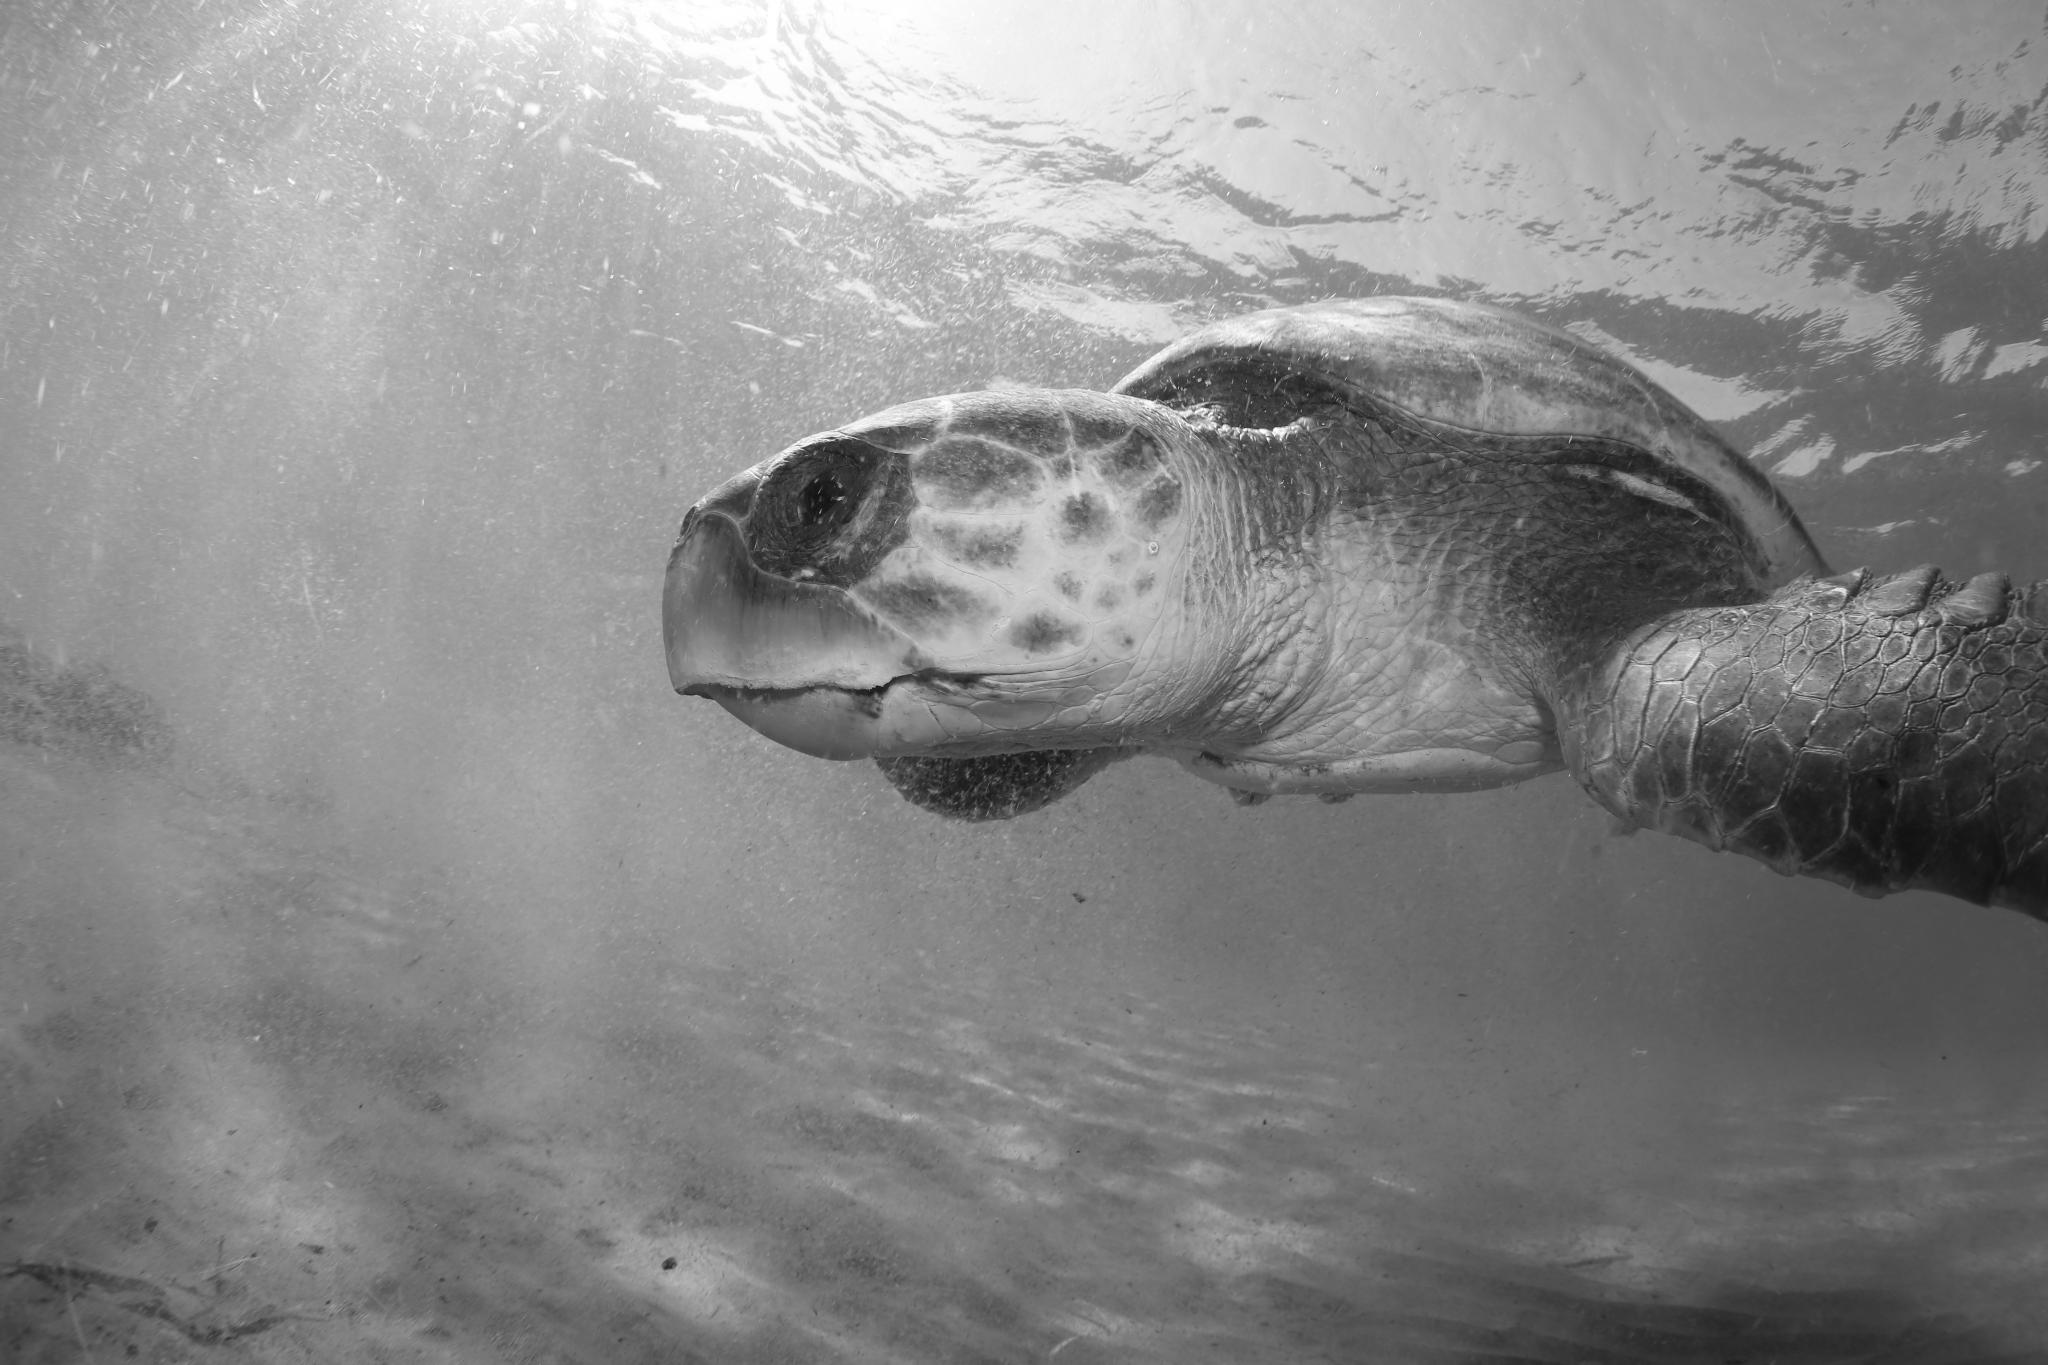Head: (663, 390, 1206, 760)
